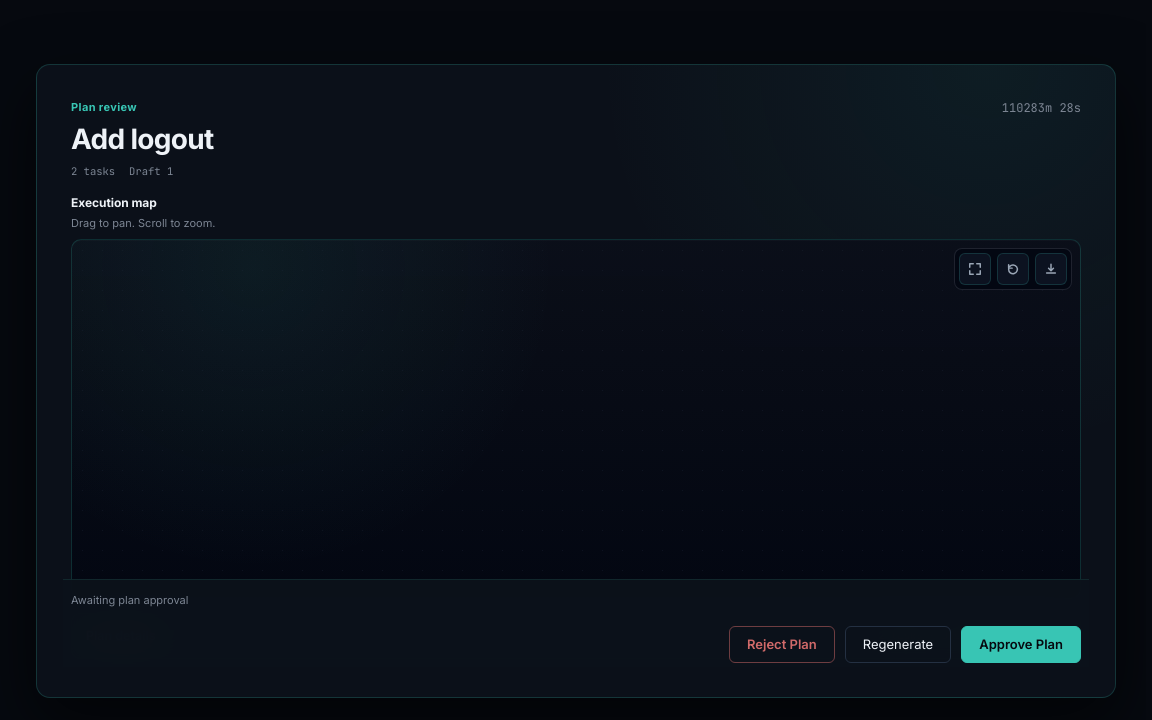
Test: MissionPlanPreview › Regenerate with feedback is gated on non-empty hint
Click the button "Regenerate" at (898,644), box top-left (845, 626), bottom-right (951, 663)
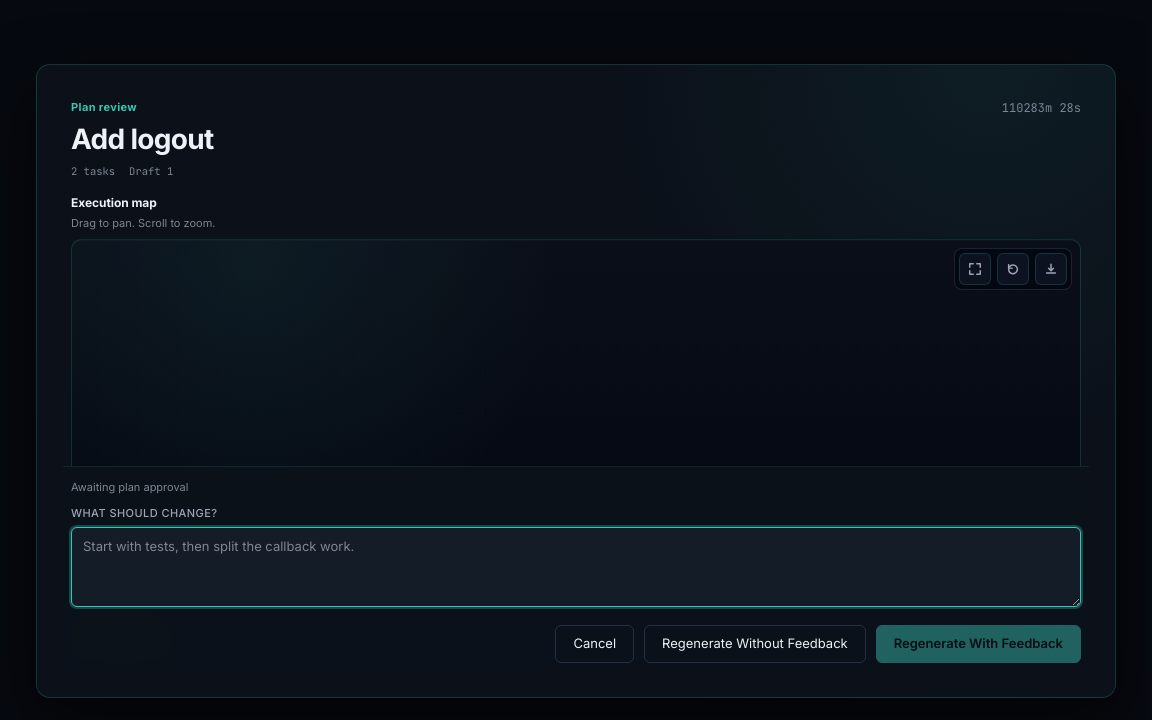
Now the button "Regenerate With Feedback" is disabled, box top-left (876, 626), bottom-right (1081, 663)
Type "smaller tasks please" into the text box with placeholder "Start with tests, then split the callback work." at (576,568), box top-left (71, 528), bottom-right (1081, 608)
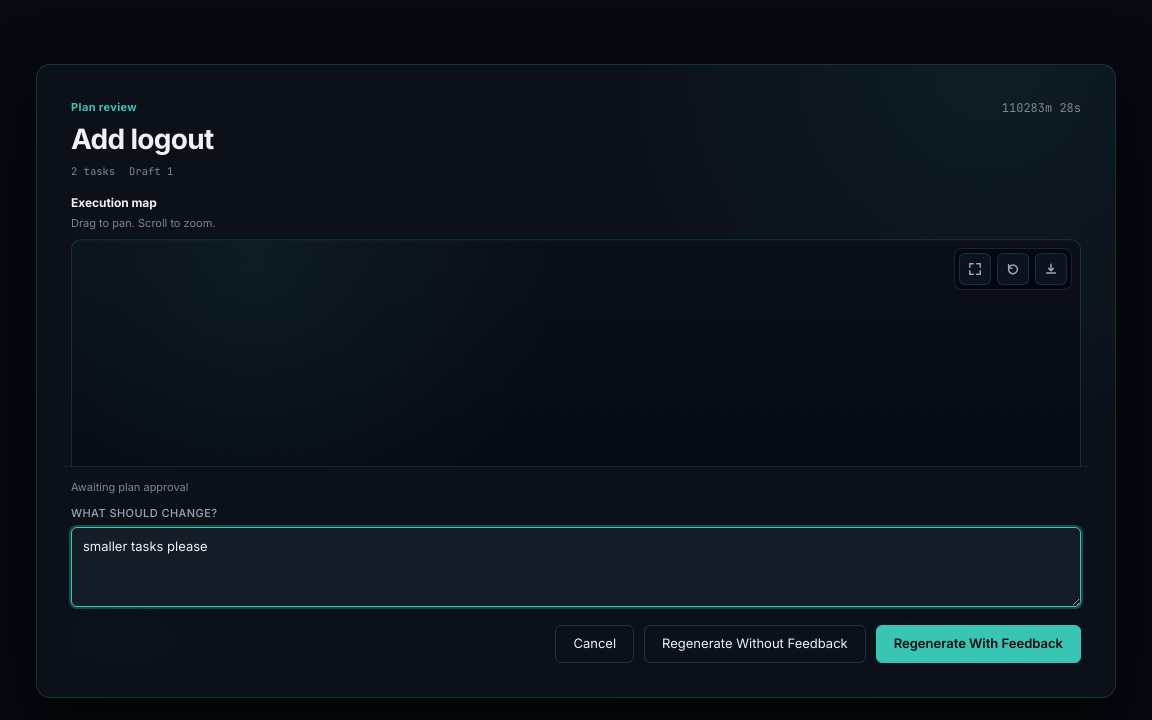
Now the button "Regenerate With Feedback" is enabled, box top-left (876, 626), bottom-right (1081, 663)
